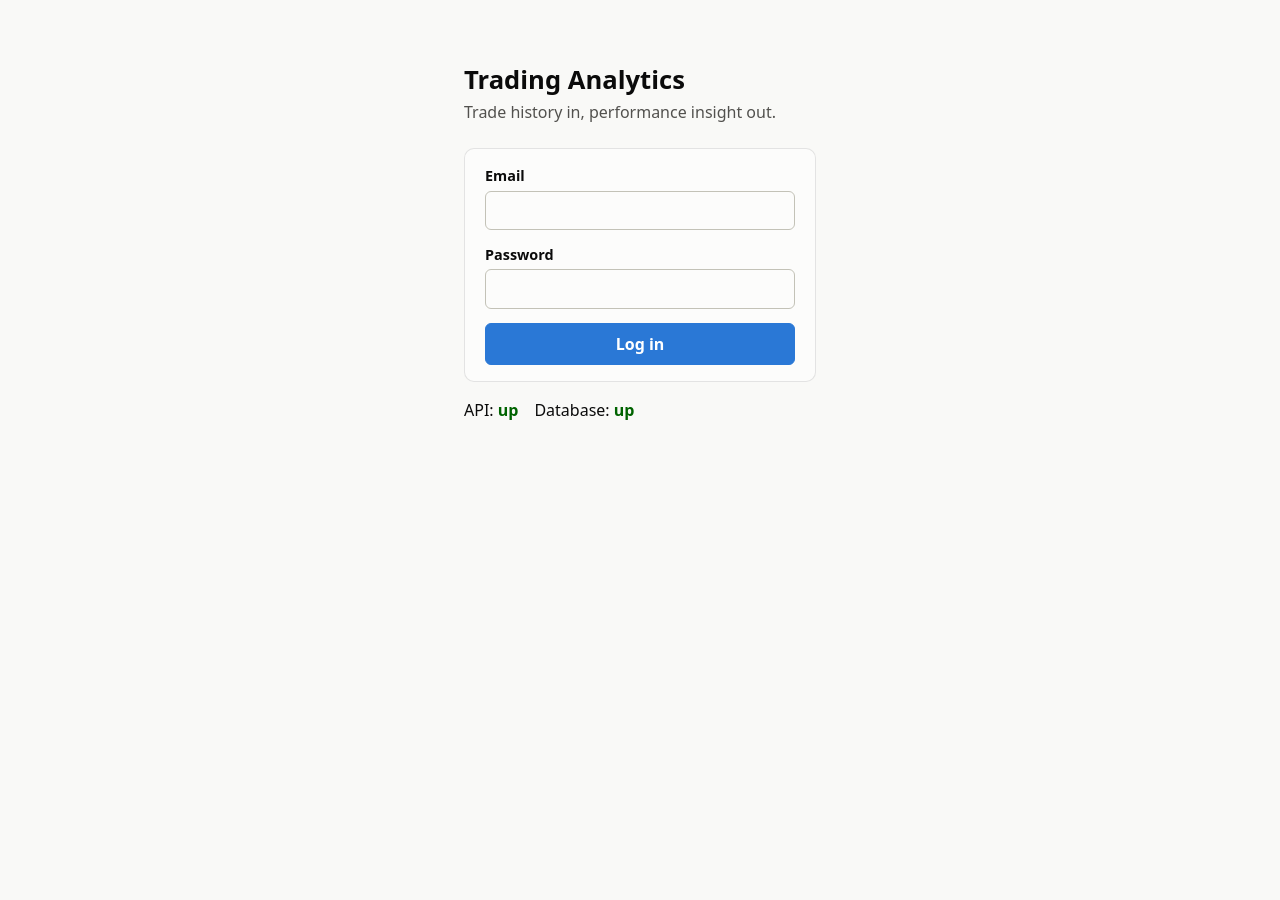
Scenario: logging in › logs in, then shows the accounts and sends the token on later requests
Type "trader@example.com" into the field labelled "Email". click: (640, 210)
box: x1=485 y1=191 x2=795 y2=230
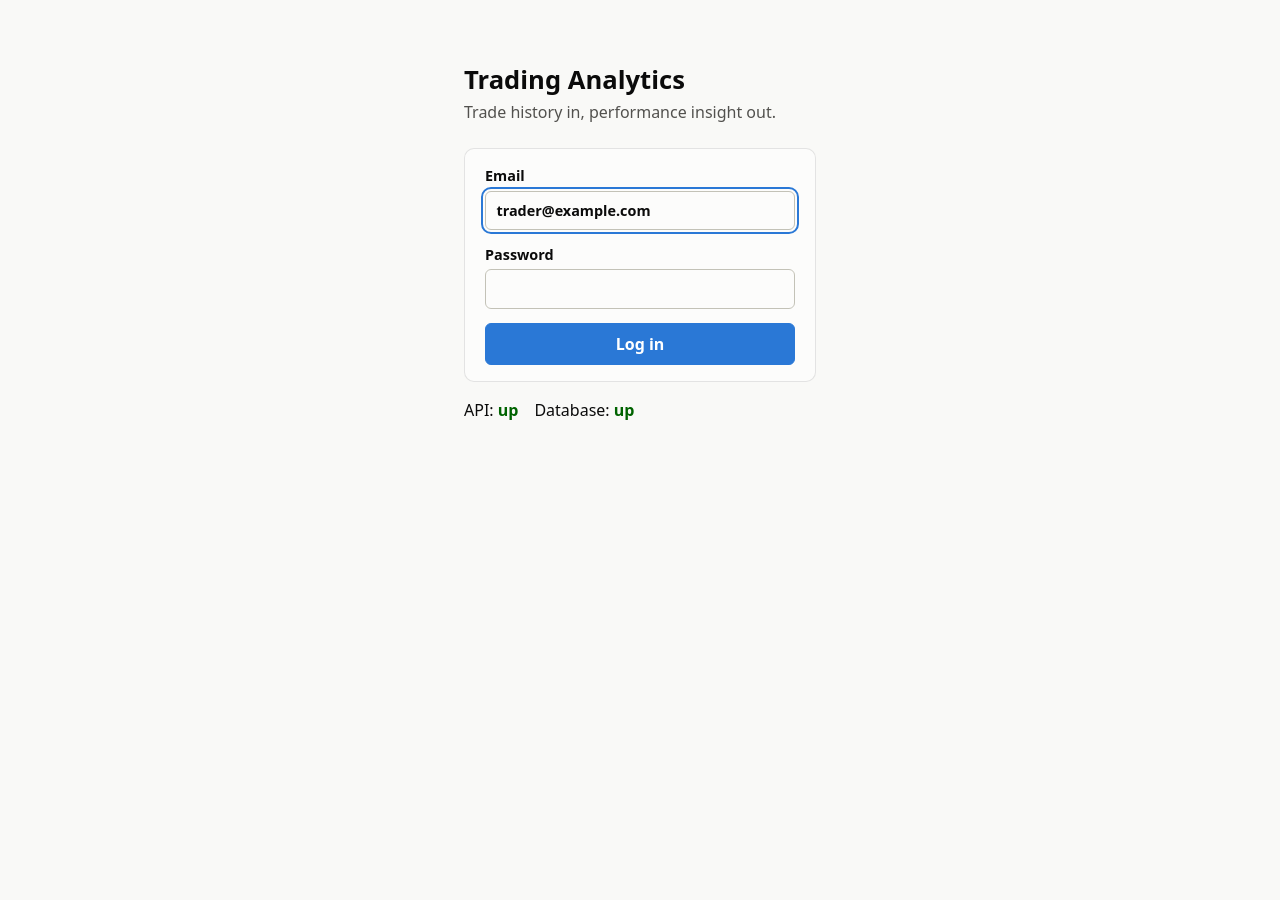
Type "correct-horse-battery" into the password field labelled "Password". click: (640, 289)
box: x1=485 y1=269 x2=795 y2=309
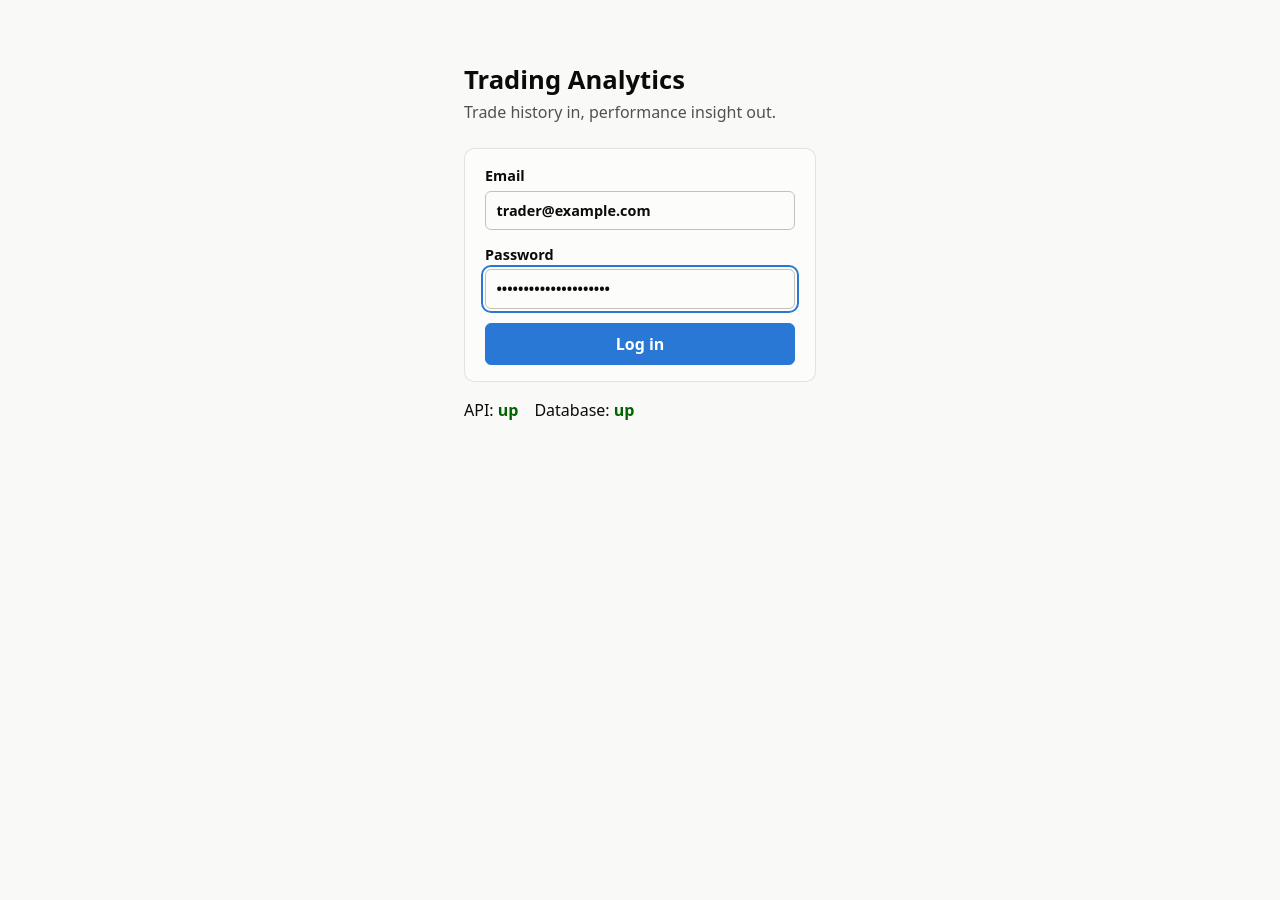
Click the button "Log in". click: (640, 344)
box: x1=485 y1=322 x2=795 y2=364
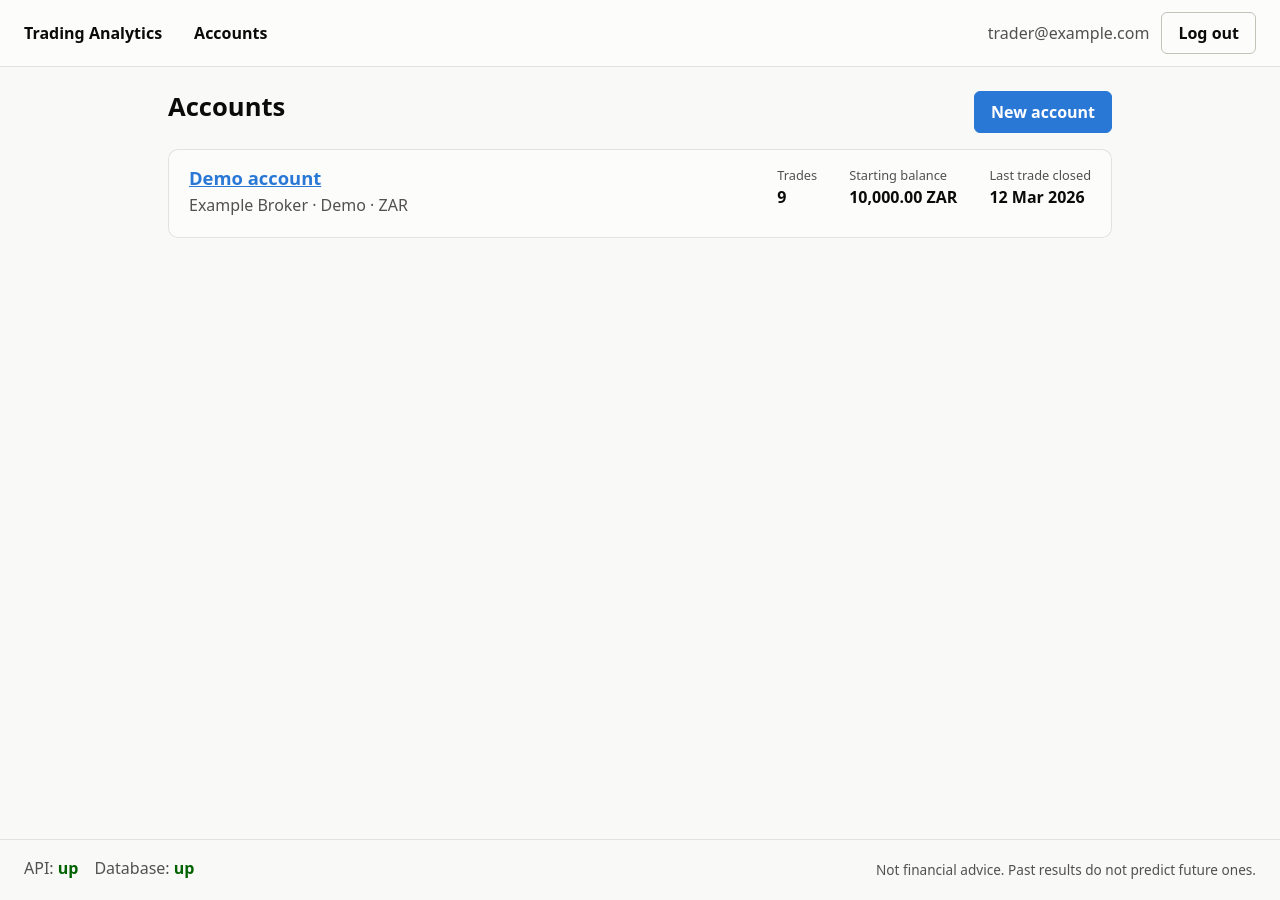
Expected: the heading "Accounts" is shown, x1=168 y1=91 x2=285 y2=123
